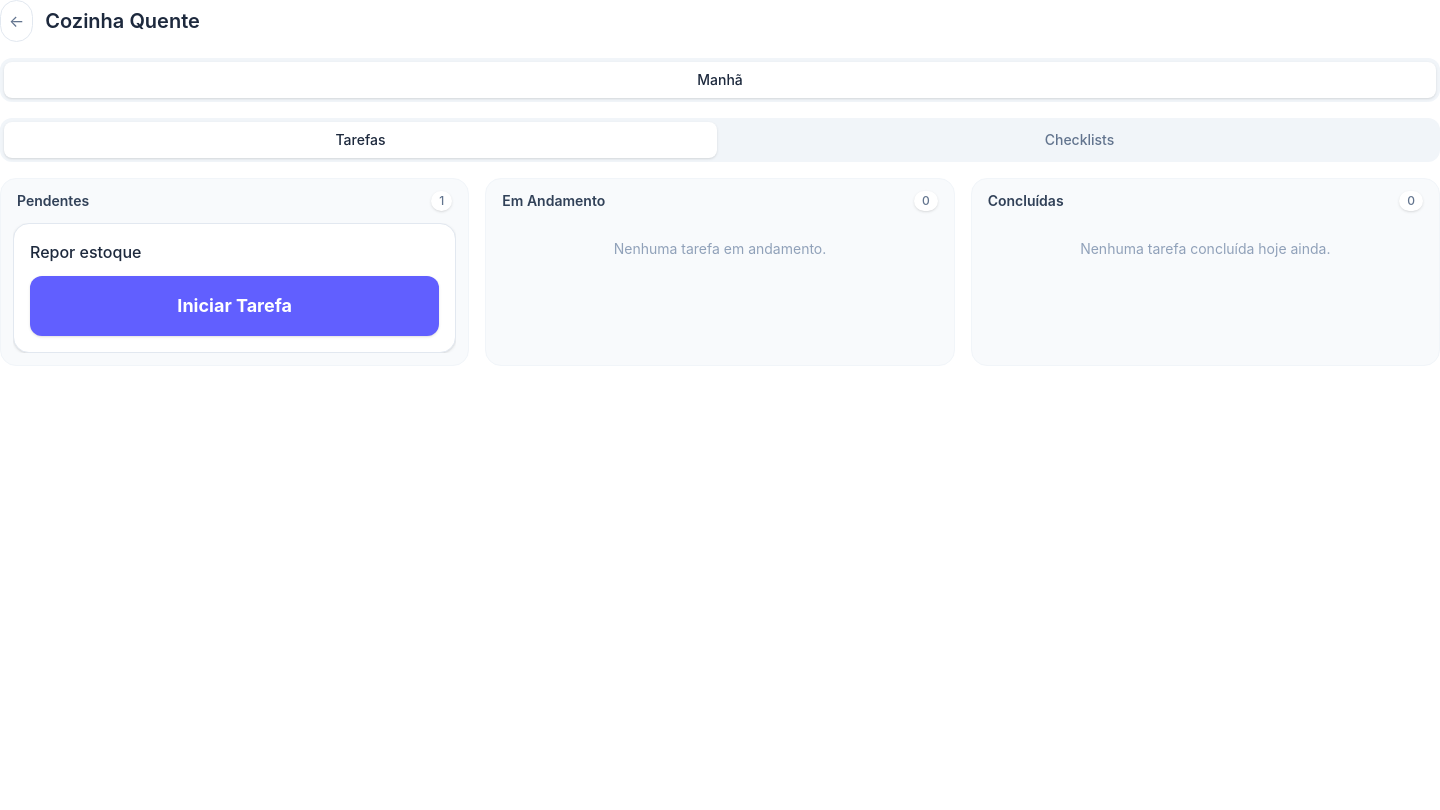
Test: SectorView › iniciar uma tarefa PENDING mostra um toast e devolve pro Kanban, sem abrir o painel de ações
This screenshot has width=1440, height=810.
Click the button "Iniciar Tarefa" at (235, 306), box [30,276,439,336]
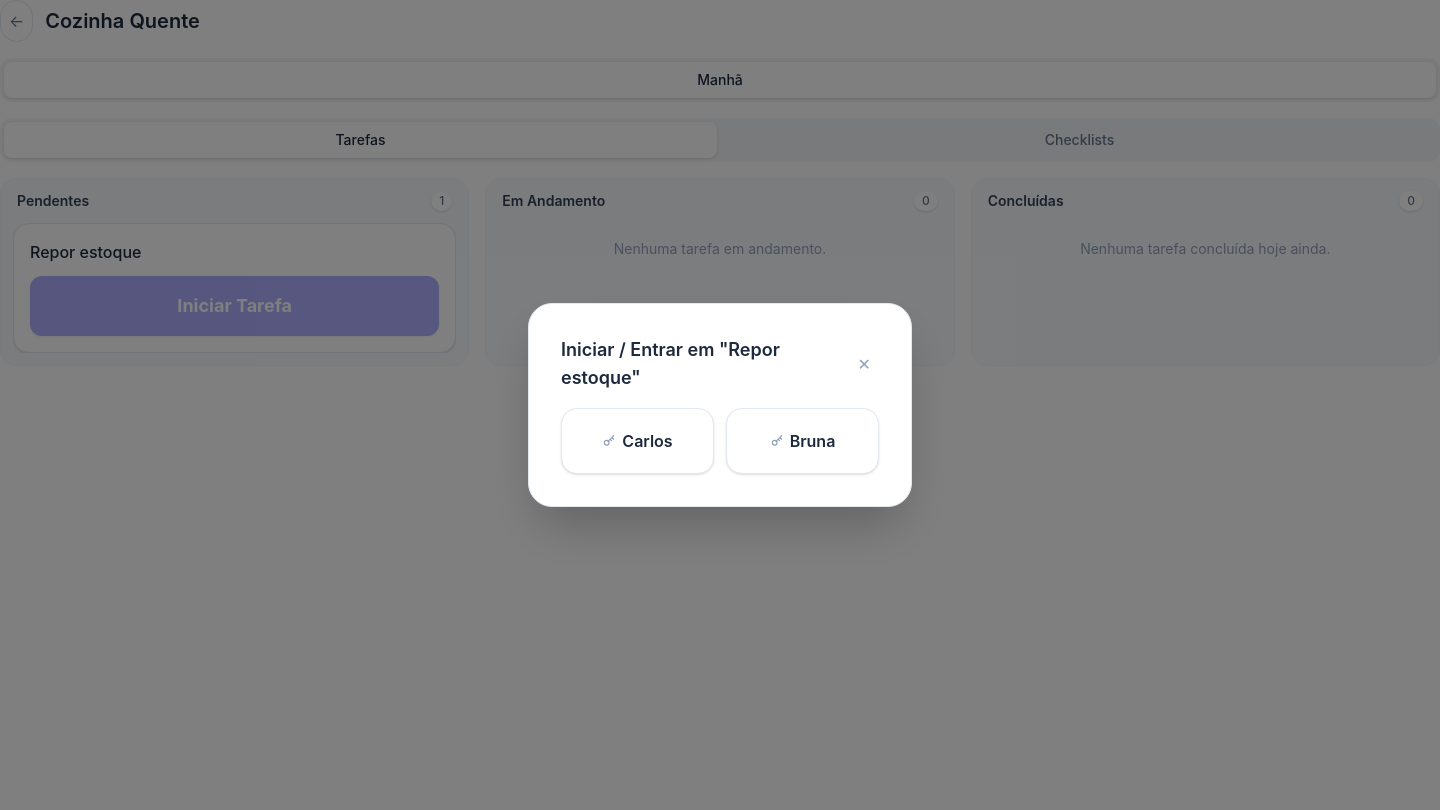
Click the button "Bruna" at (802, 441), box [726,408,879,474]
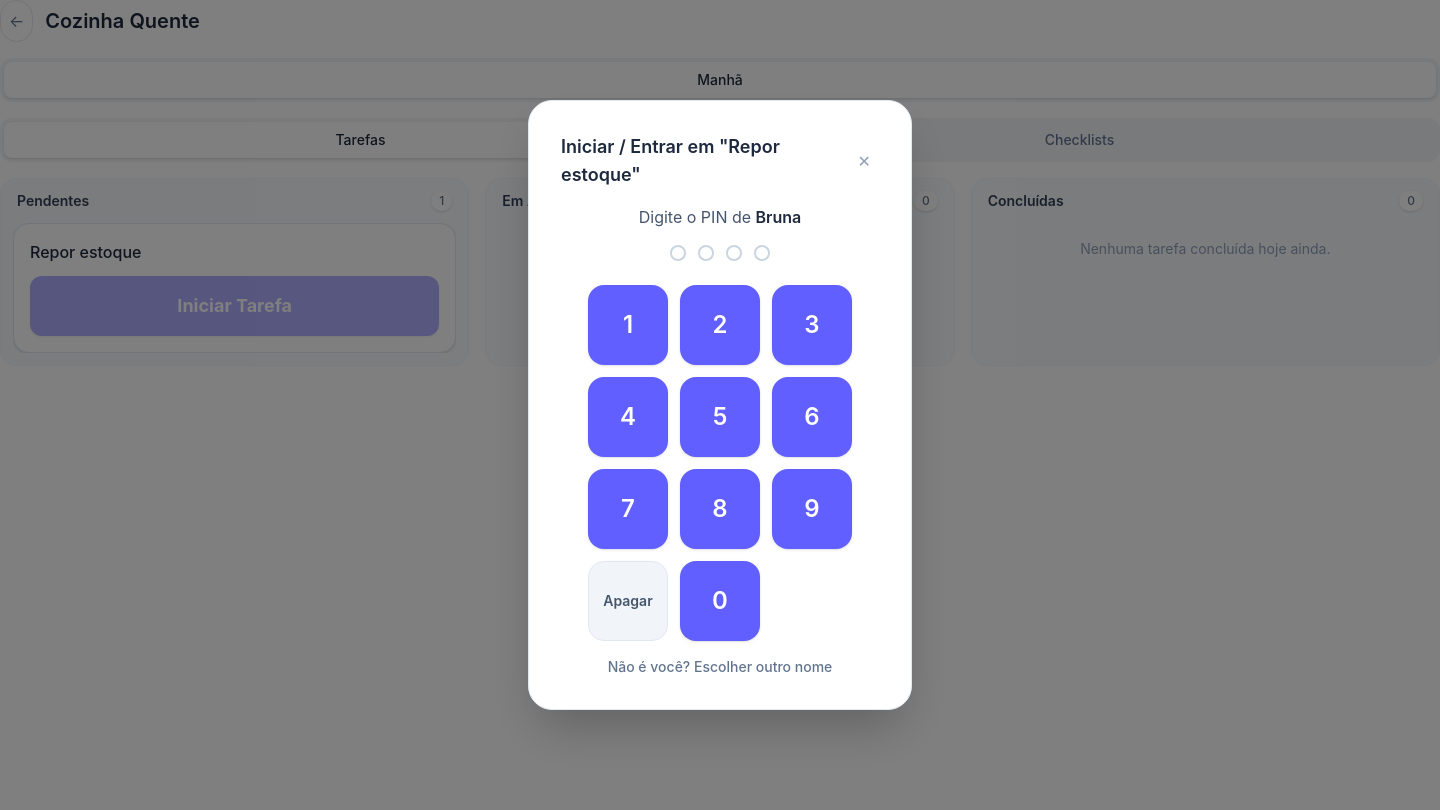
Click the button "1" at (628, 325), box [588,285,668,365]
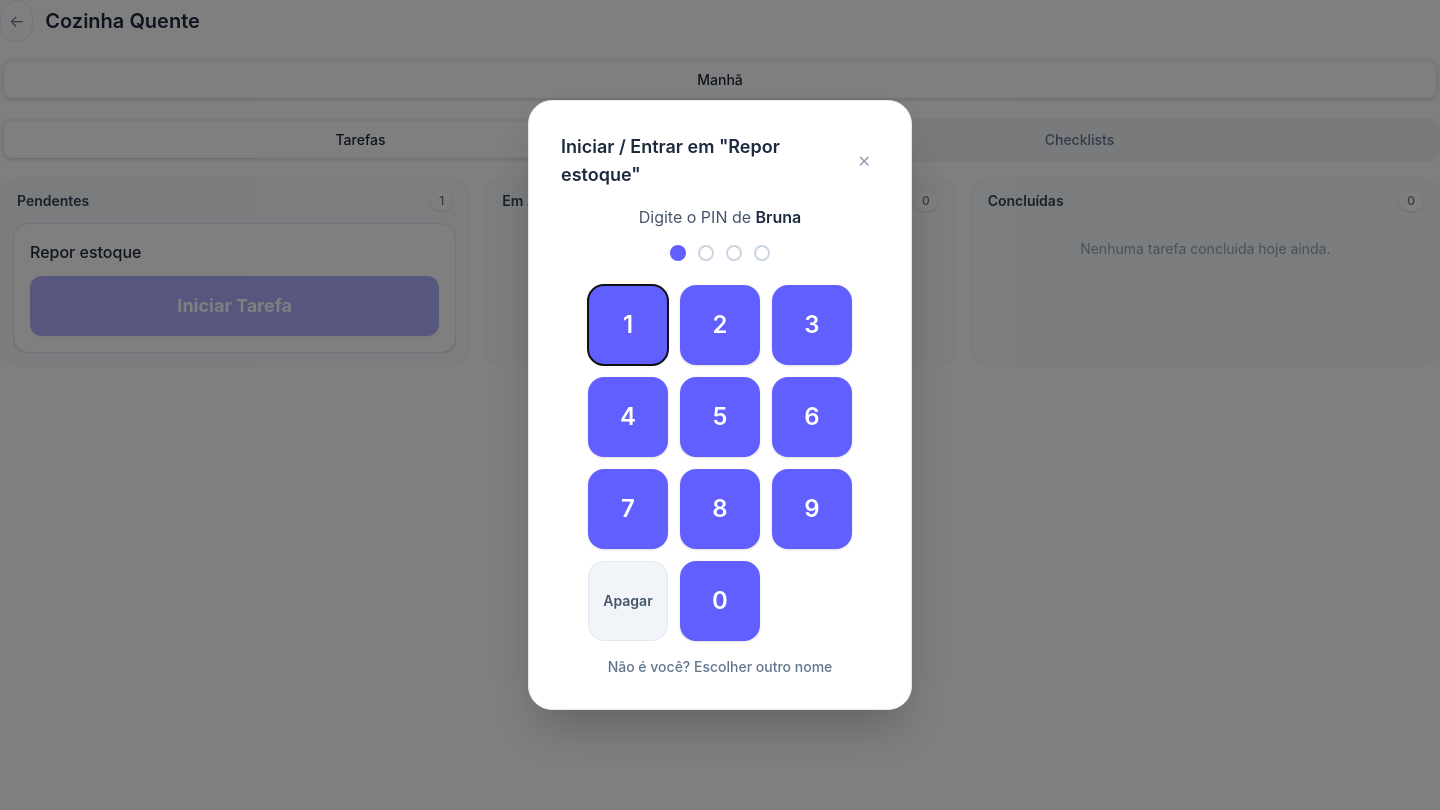
Click the button "2" at (720, 325), box [680,285,760,365]
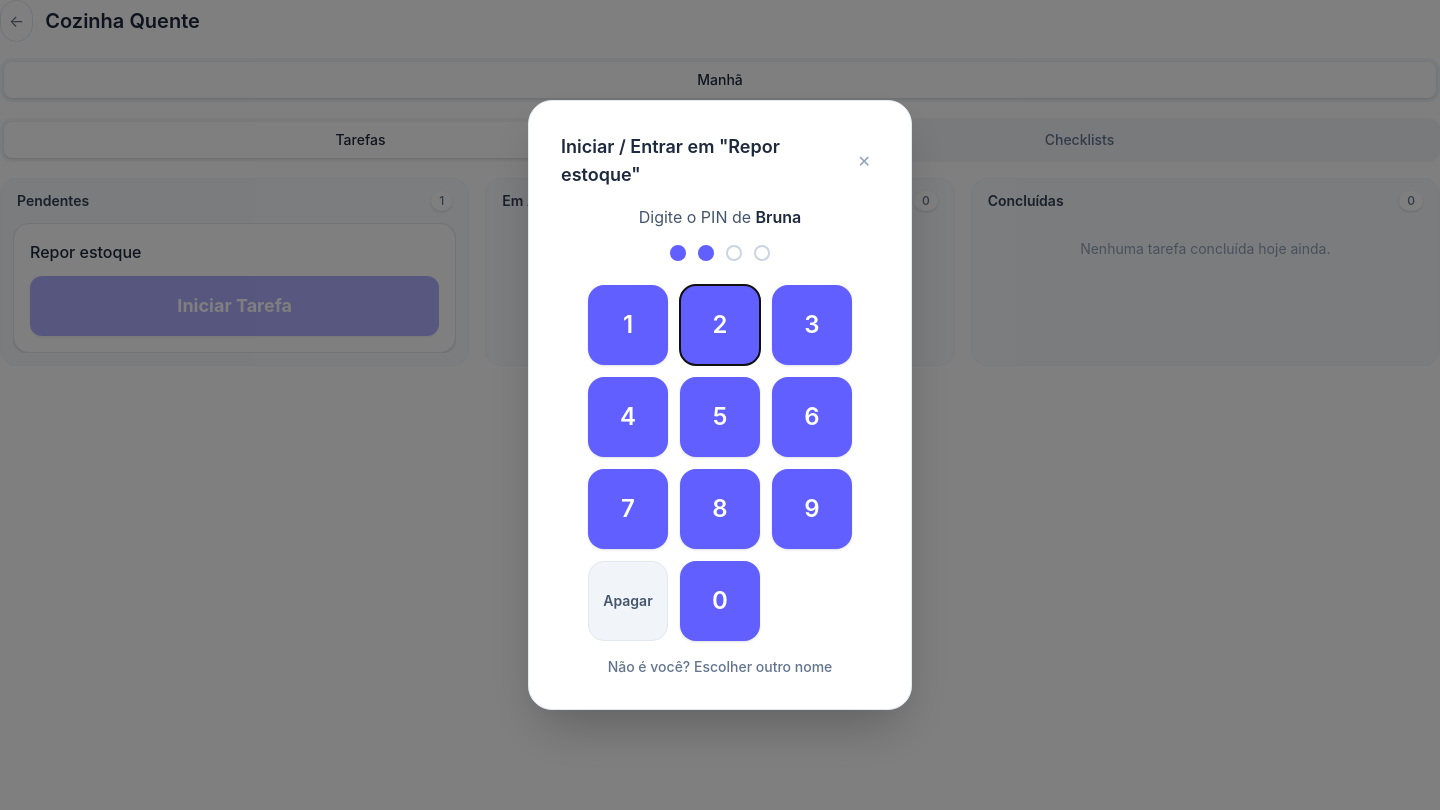
Click the button "3" at (812, 325), box [772,285,852,365]
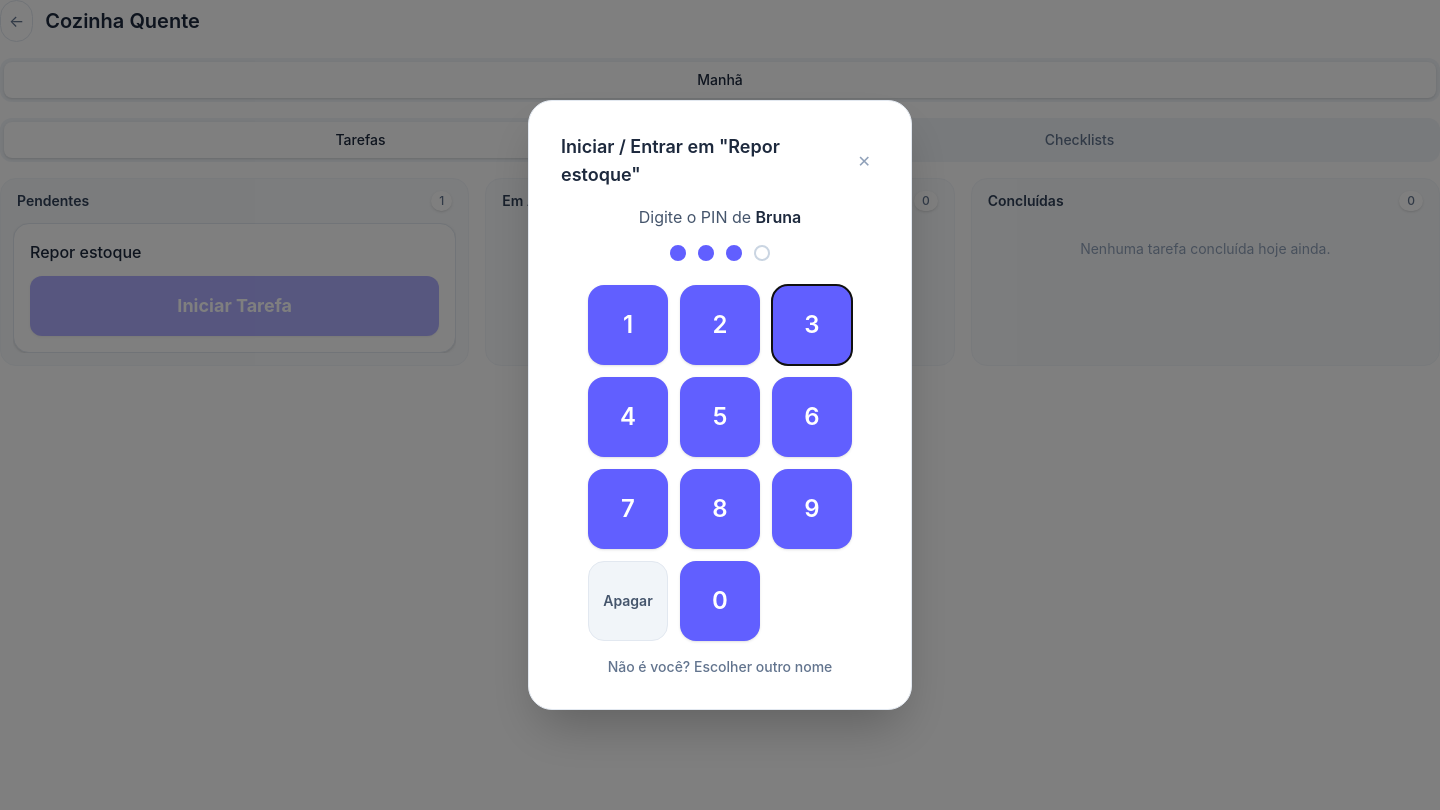
Click the button "4" at (628, 417), box [588,377,668,457]
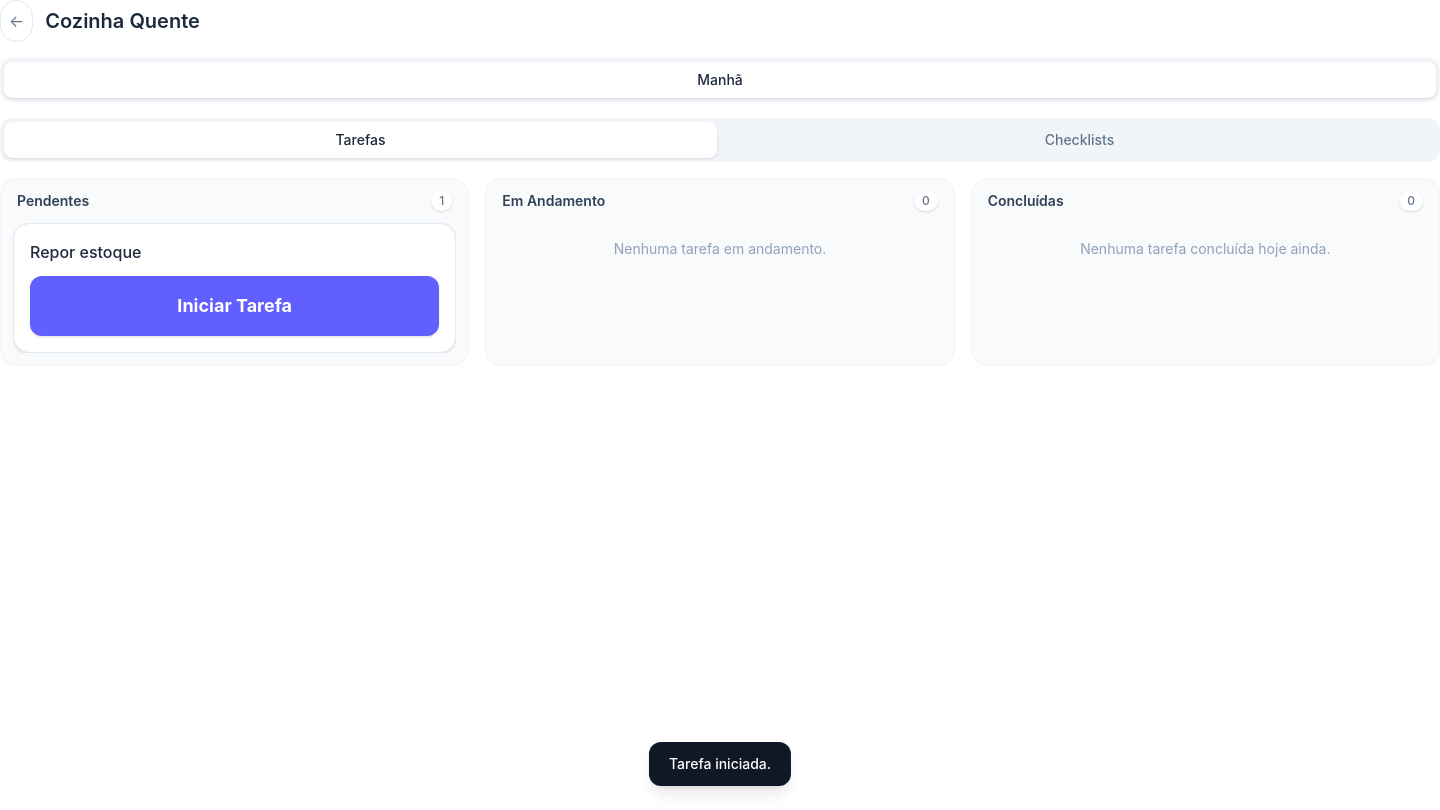
Now the text "Tarefa iniciada." is shown, box [649,742,791,786]
